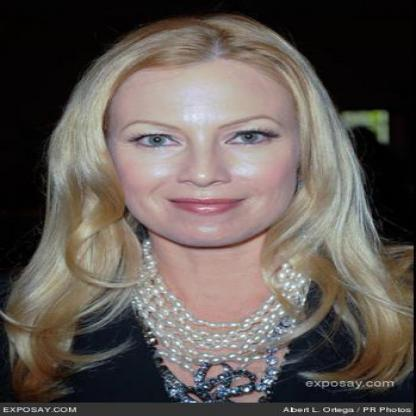long-hair: (8, 251, 412, 301)
